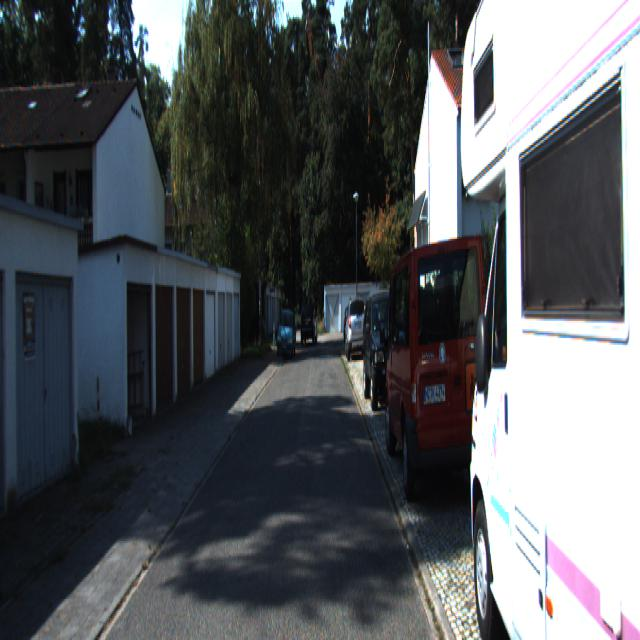Car: (454, 0, 617, 639), (384, 224, 496, 522), (362, 282, 408, 414), (345, 296, 368, 361), (278, 308, 296, 358), (300, 300, 318, 342)
